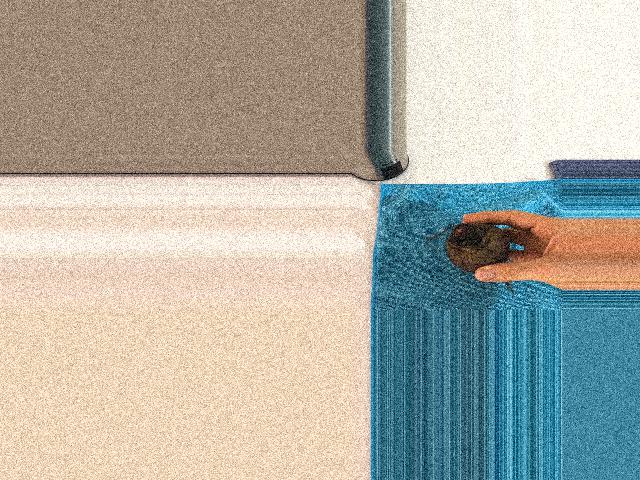beet: (426, 223, 513, 294)
